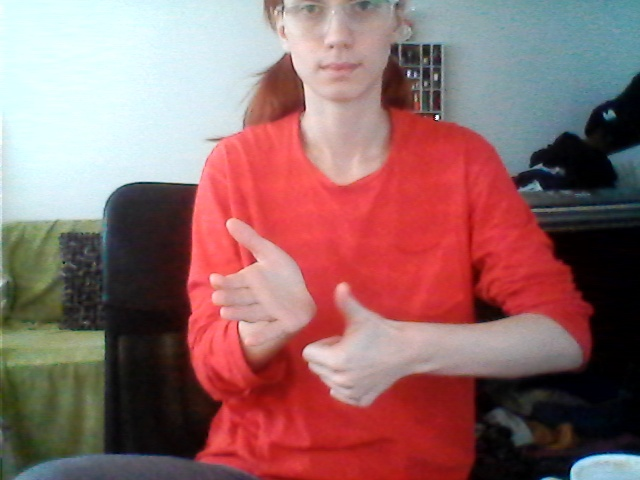pivo: (203, 210, 398, 415)
